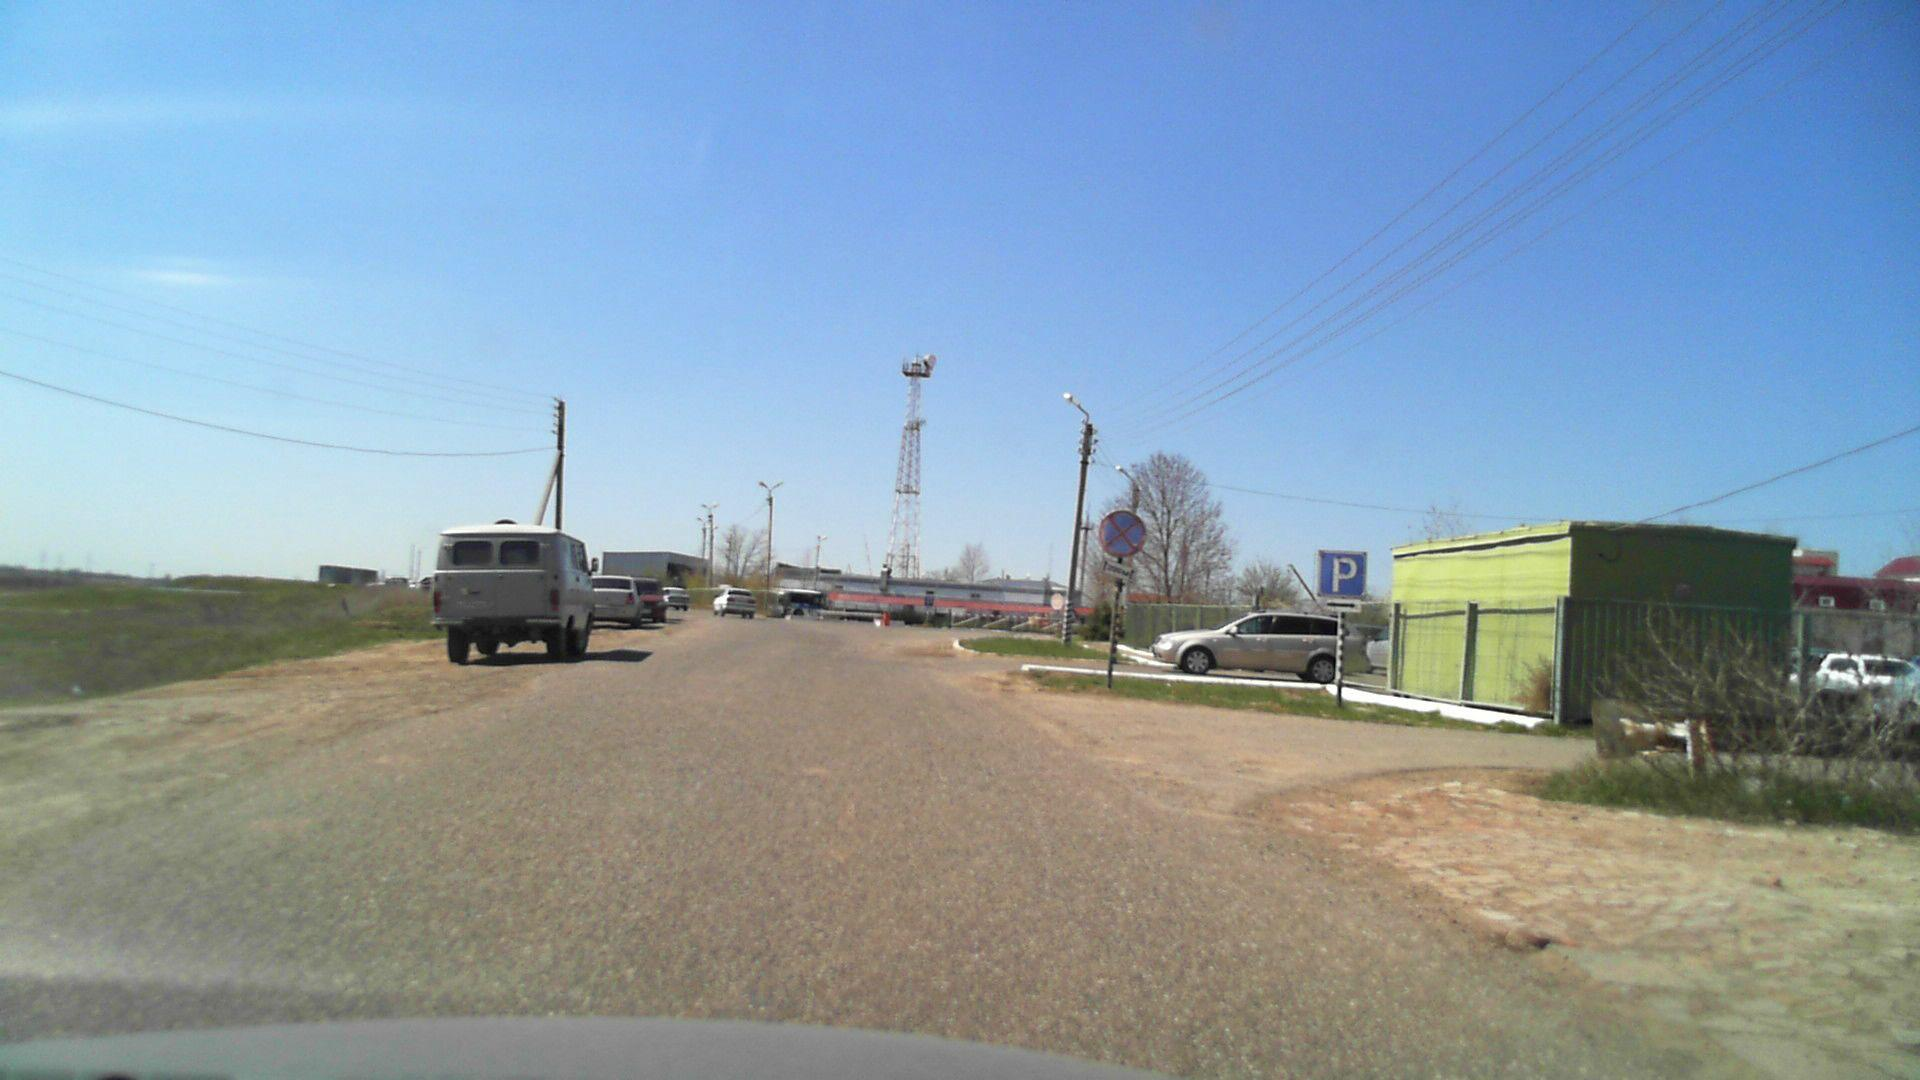3_27: (1099, 511, 1149, 559)
6_4: (1320, 549, 1367, 594)
8_3_1: (1326, 596, 1367, 615)
